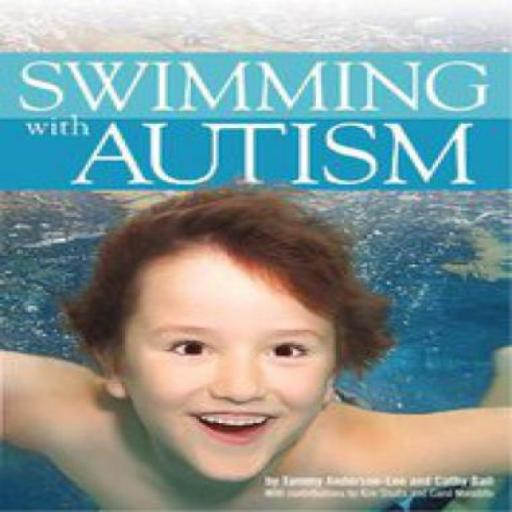swimming: (0, 185, 511, 511)
